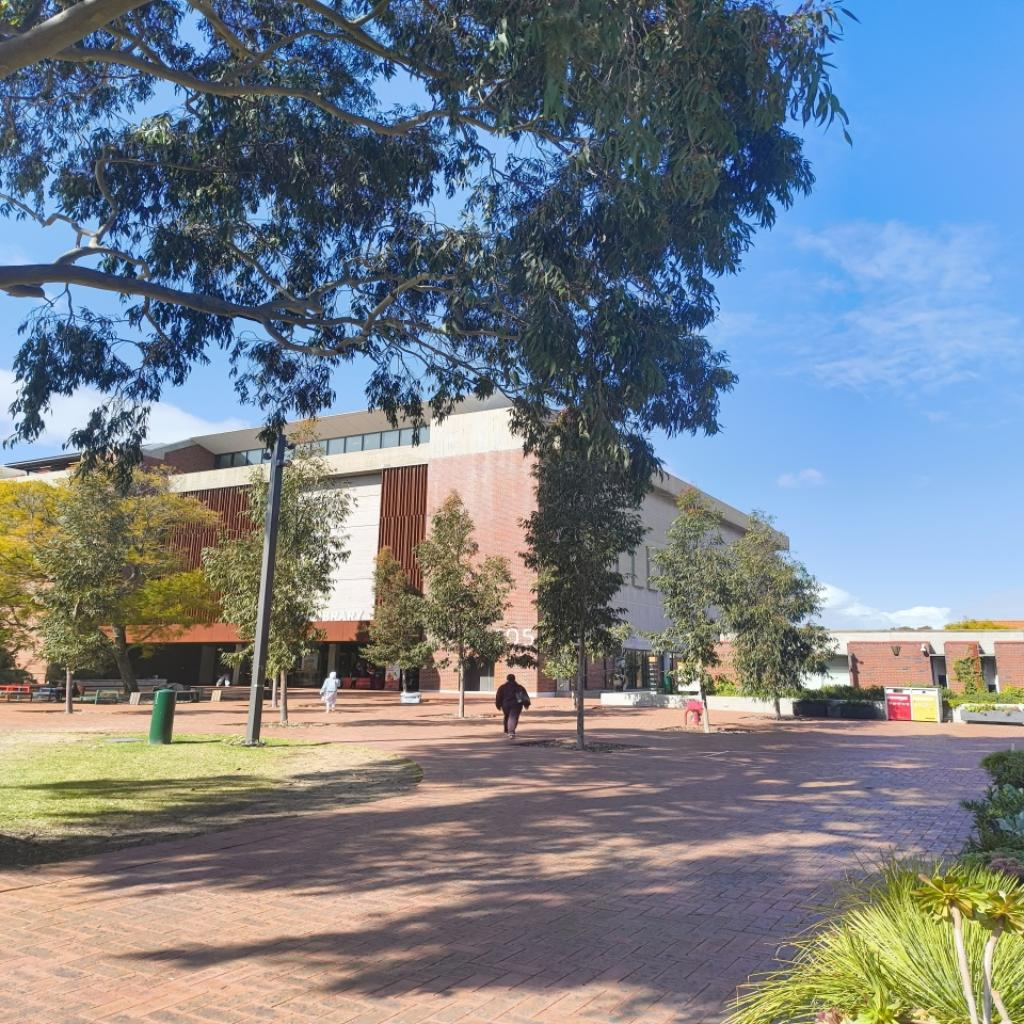BuildingCodes: (492, 627, 534, 647)
